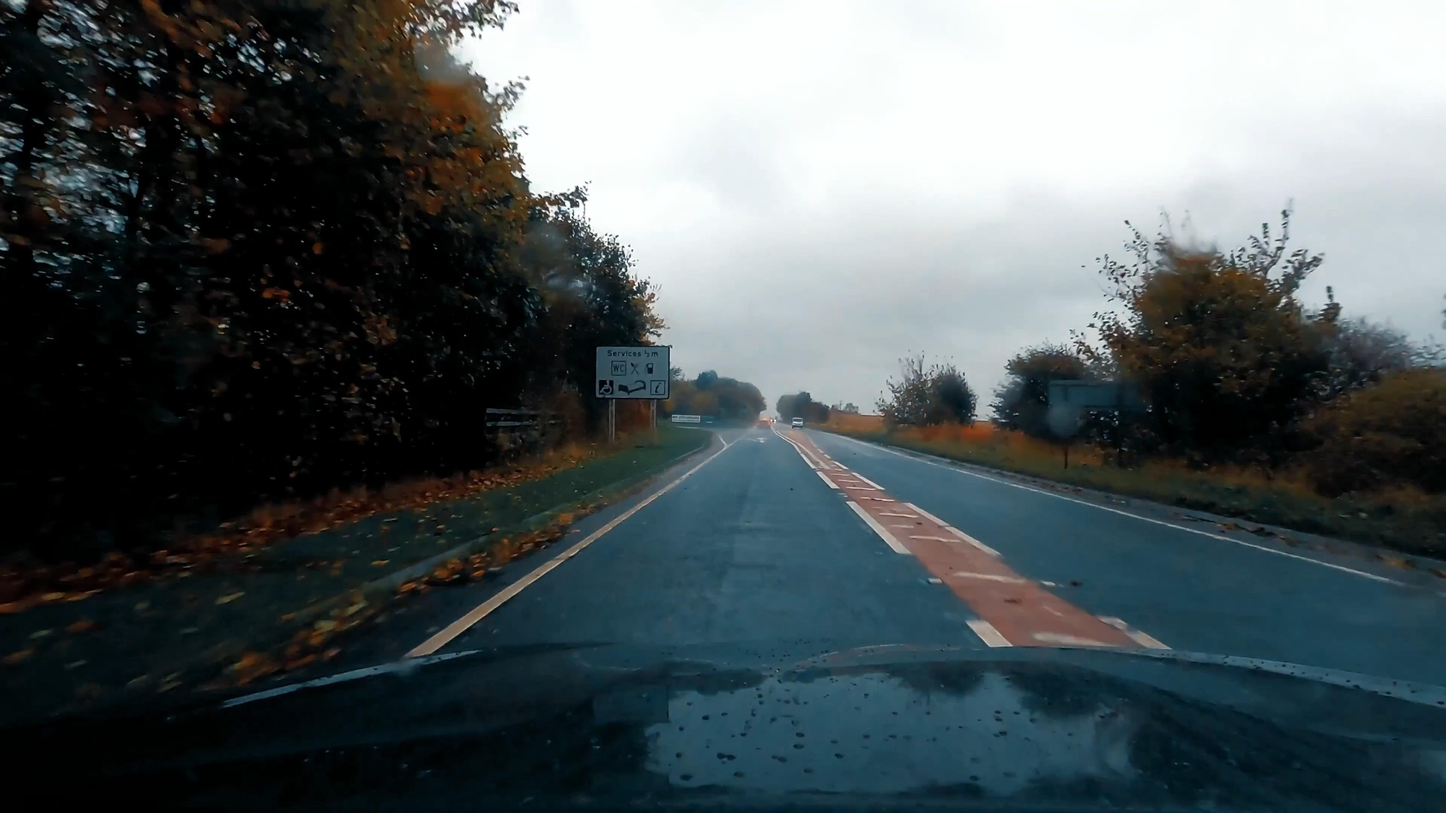dry: (398, 419, 1446, 690)
